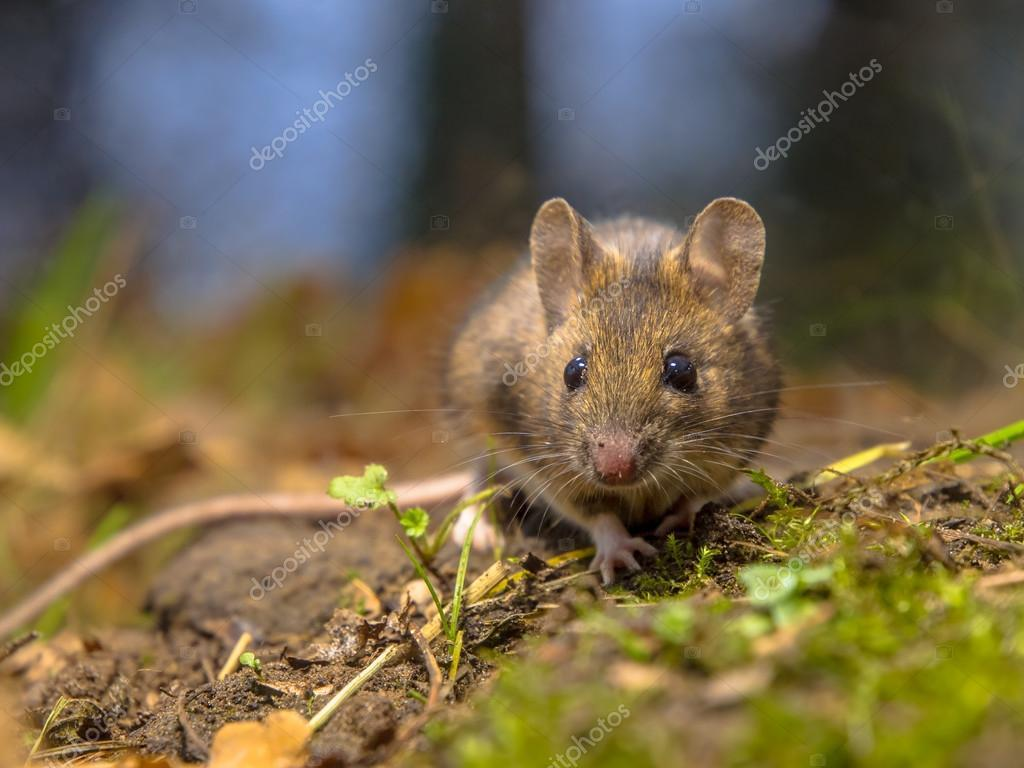rat: (0, 197, 778, 625)
